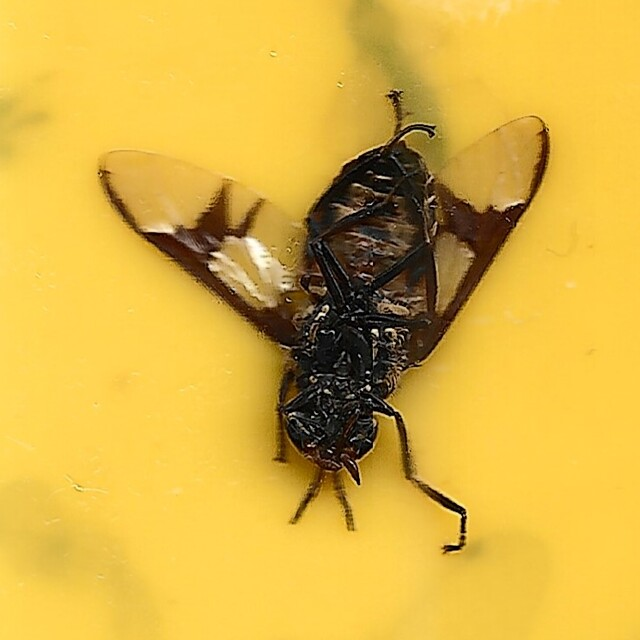Brachycera: (86, 87, 554, 553)
